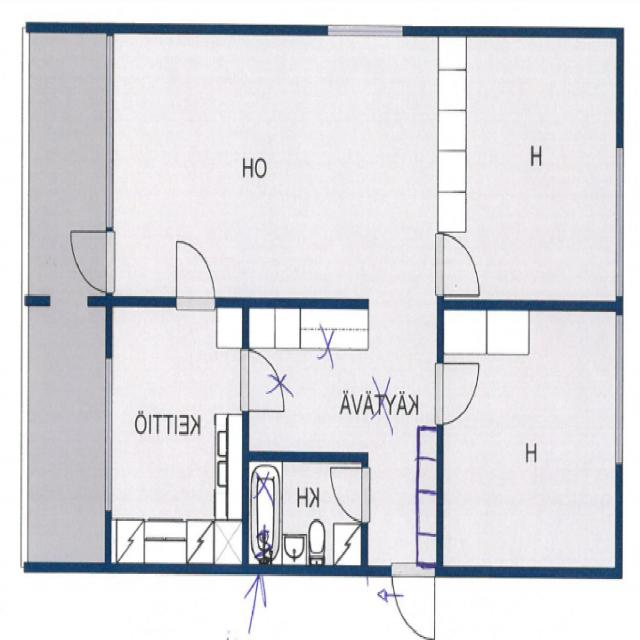door: (372, 564, 414, 640), (176, 237, 215, 310), (438, 234, 483, 297), (438, 363, 482, 424), (70, 232, 114, 292), (329, 468, 369, 520)
